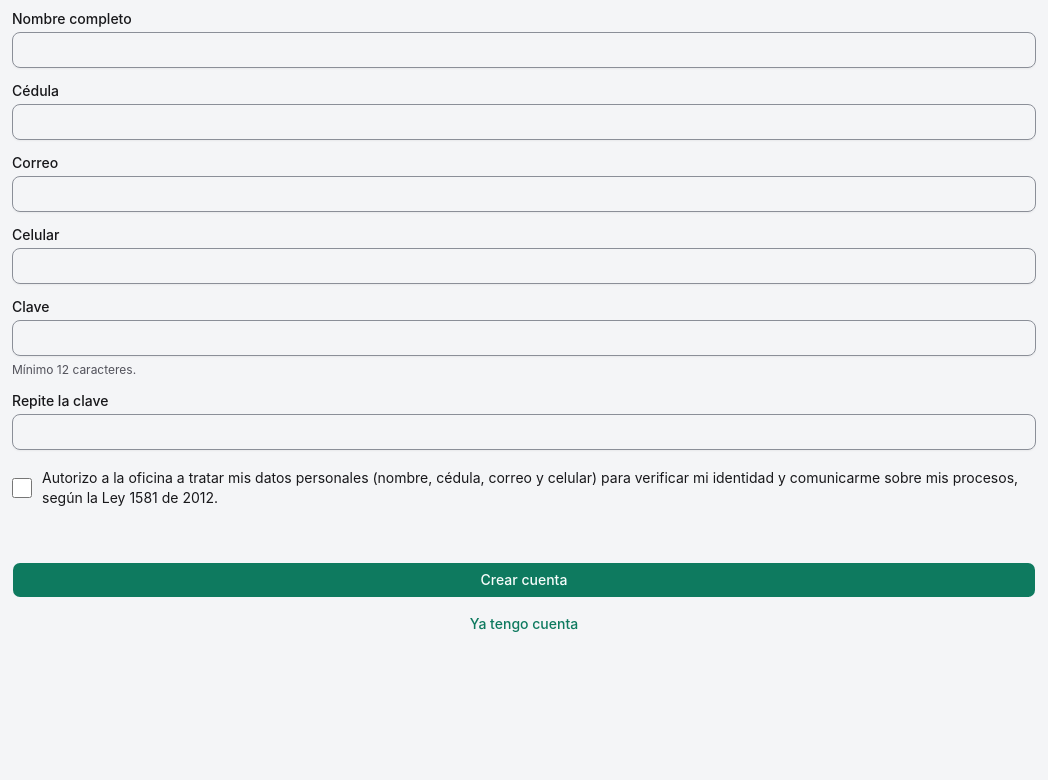
RegistroForm › does not send anything without the consent checkbox
In the field with id "nombre-completo": (524, 50) [12,32,1036,68], type "Prueba Smoke"
In the field labelled "Cédula": (524, 122) [12,104,1036,140], type "1000000000"
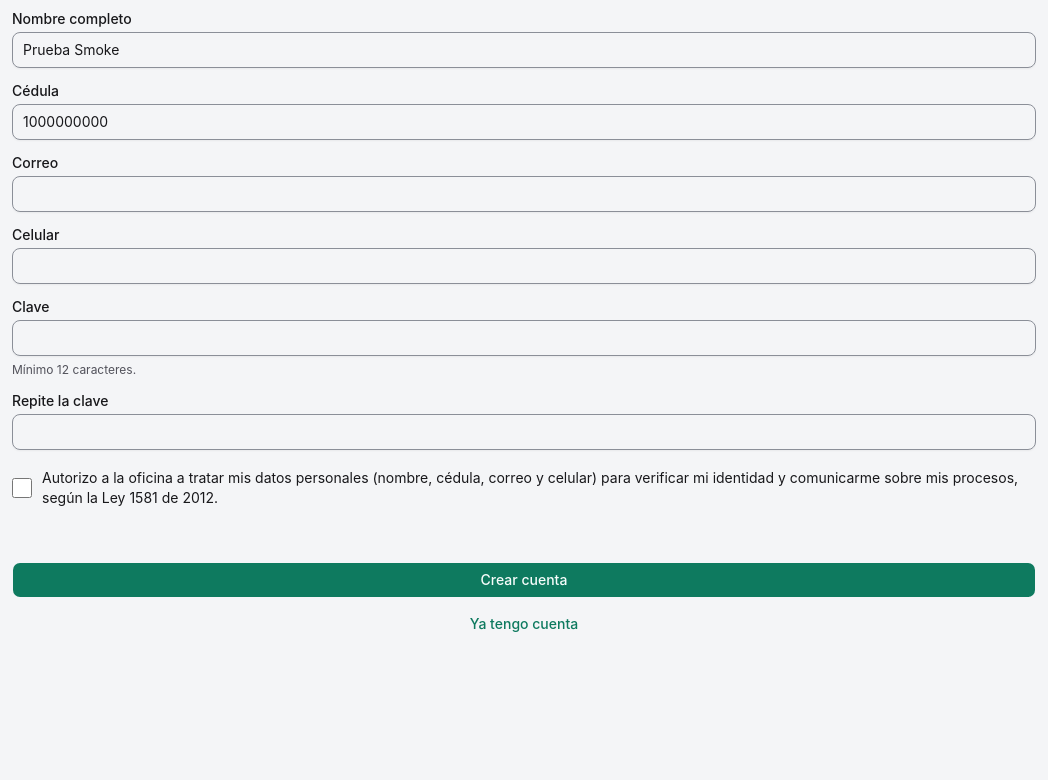
In the field labelled "Correo": (524, 194) [12,176,1036,212], type "prueba@example.com"
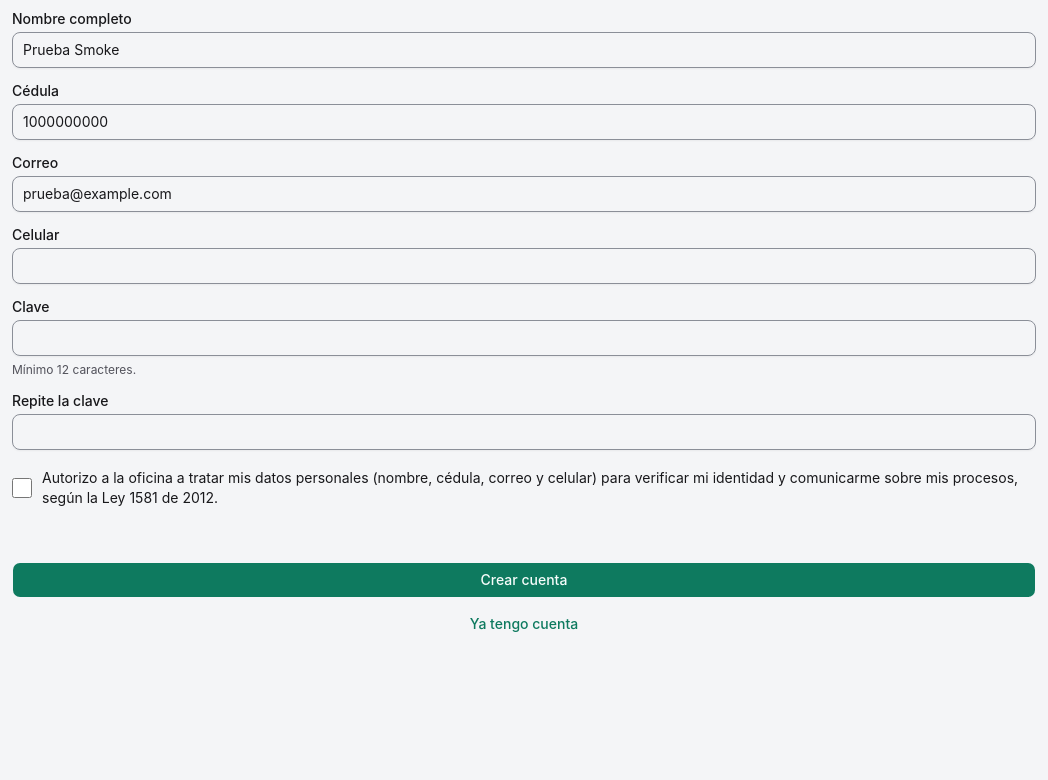
In the field labelled "Celular": (524, 266) [12,248,1036,284], type "3001234567"
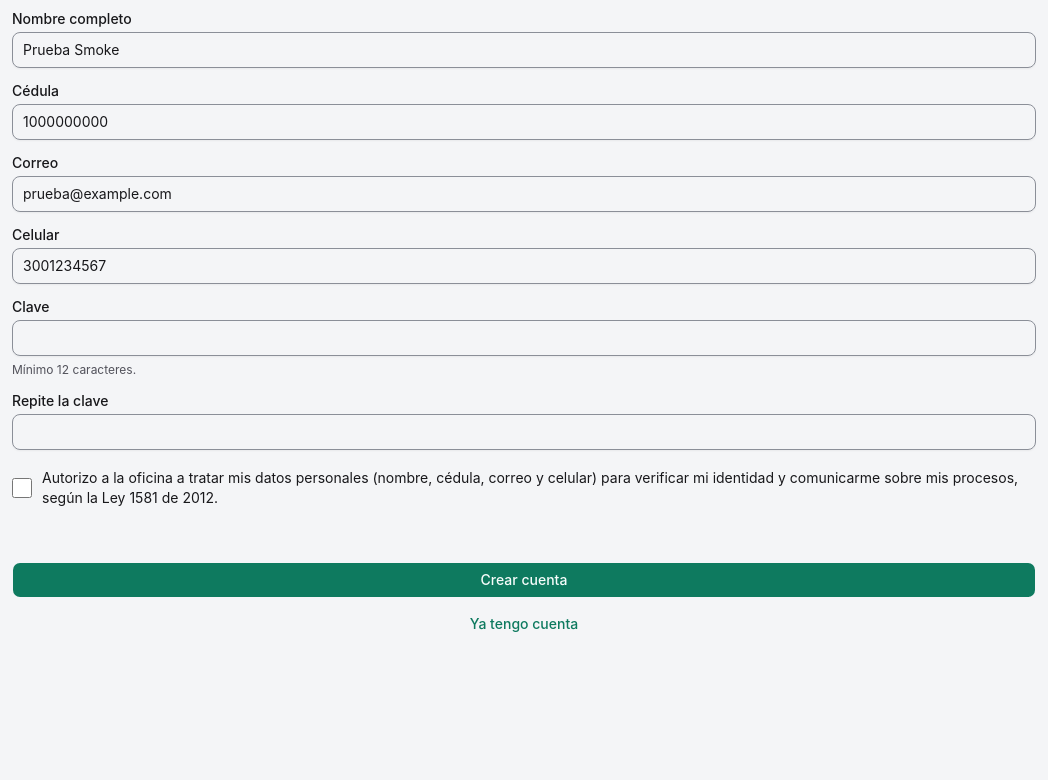
In the password field labelled "Clave": (524, 338) [12,320,1036,356], type "clave-de-prueba-larga"
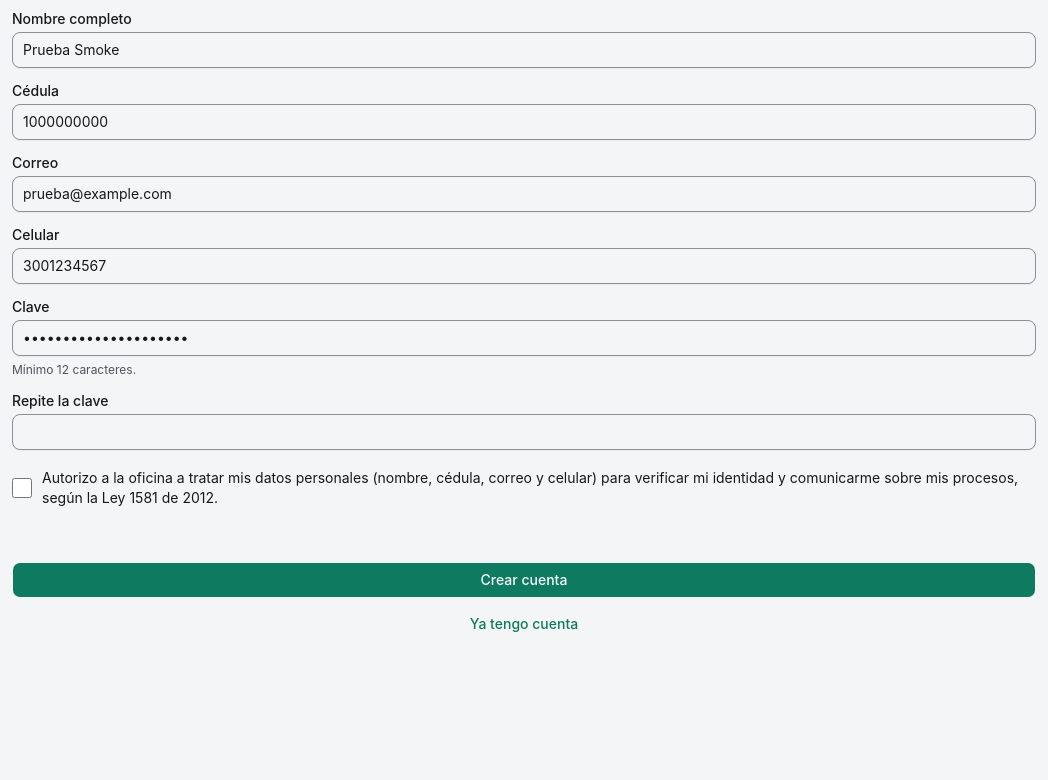
In the password field with id "confirmar-clave": (524, 432) [12,414,1036,450], type "clave-de-prueba-larga"
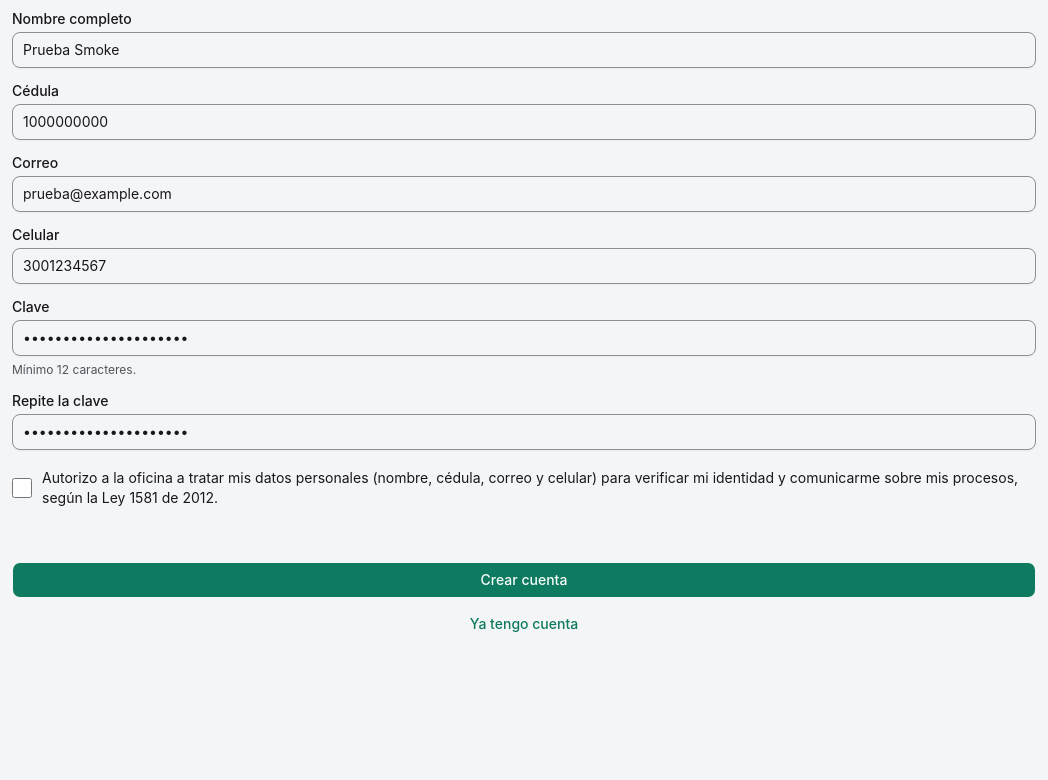
Click the button "Crear cuenta": (524, 580) [12,562,1036,598]
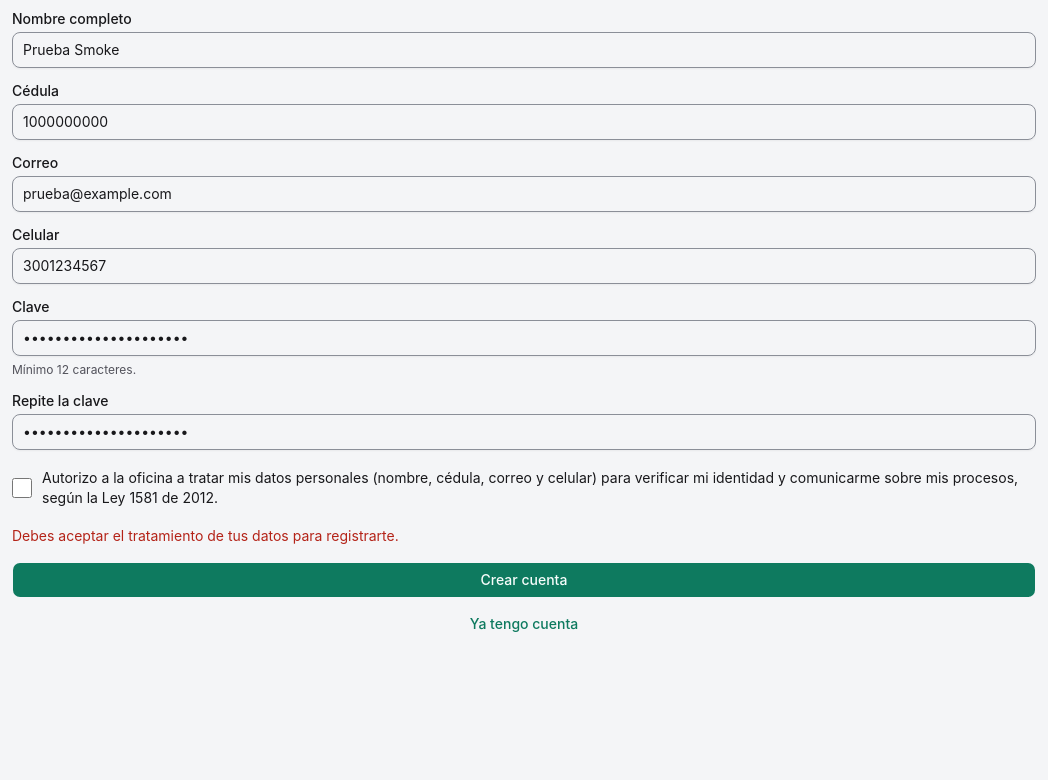
Expected: the message shows "Debes aceptar el tratamiento de tus datos", [12,527,399,544]
